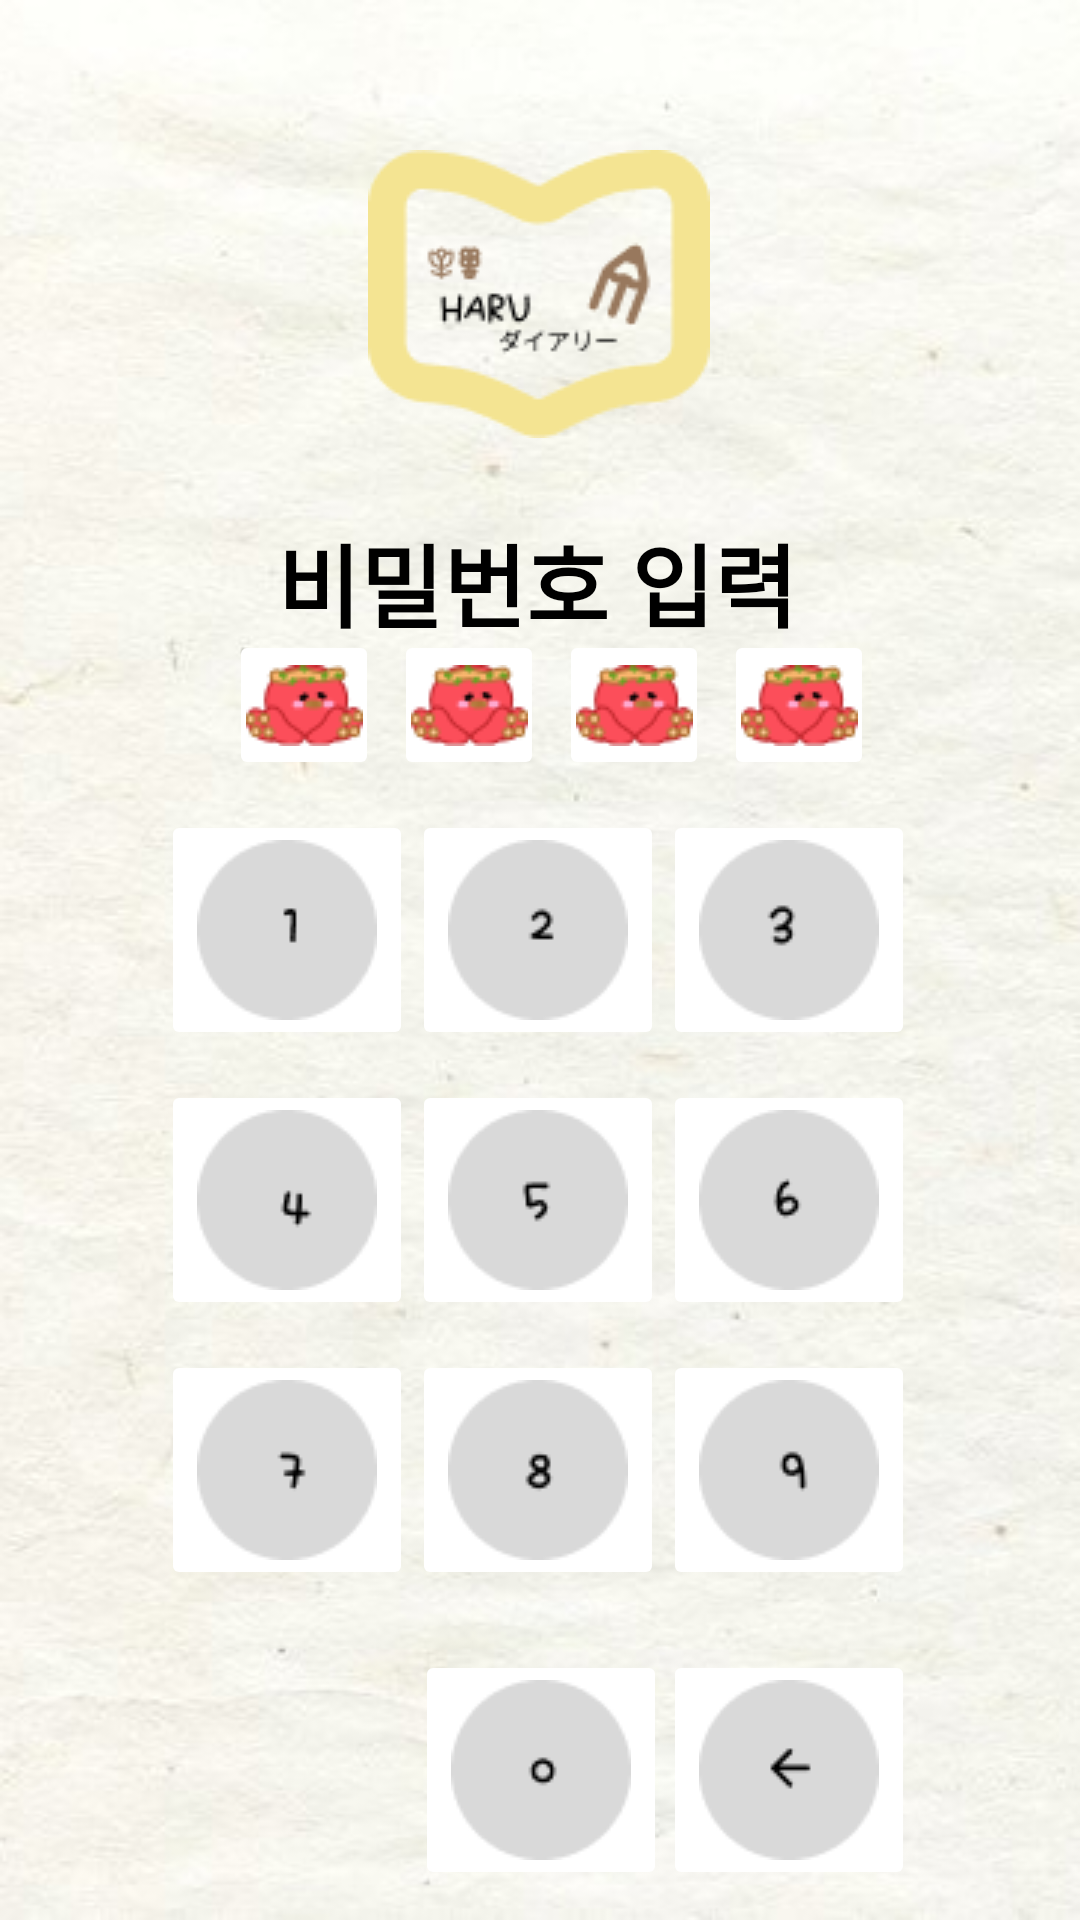

Icon click points for this 1080x1920 phone screenshot, format (x=x, y=y):
arrow: (x=789, y=1770)
octopus: (x=302, y=709), (x=469, y=705), (x=634, y=705), (x=799, y=705)
